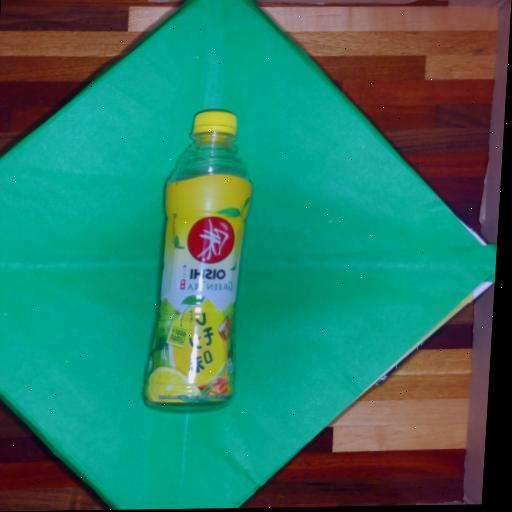bottle: (147, 109, 253, 408)
